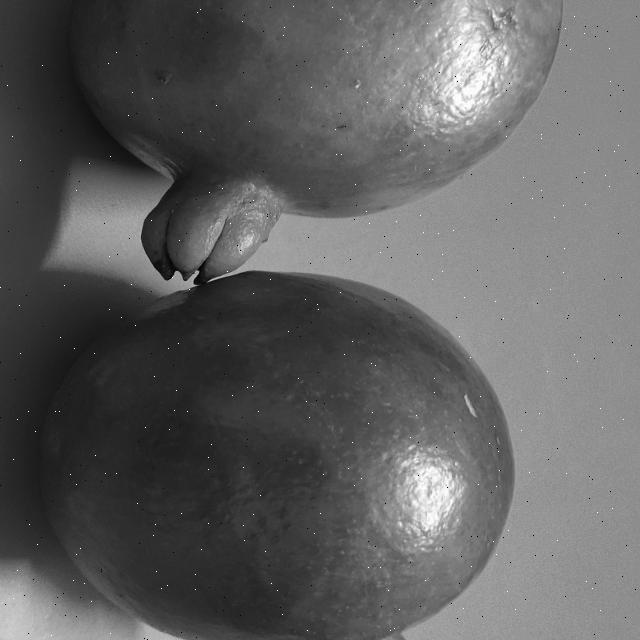Good_Pomegranate-50-60-days: (40, 0, 563, 640)
